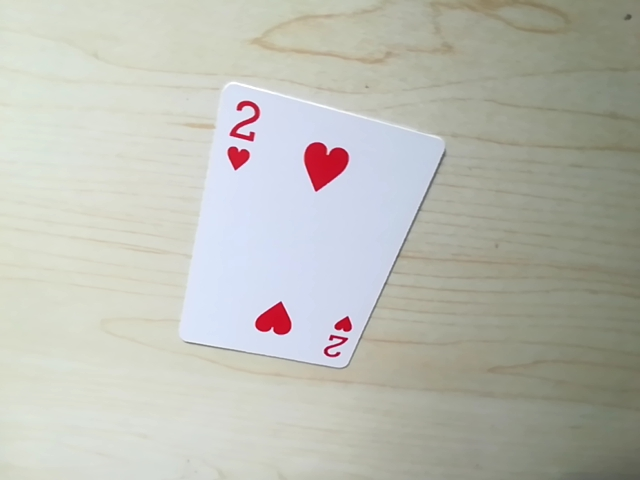hx 2: (219, 90, 263, 170), (318, 311, 359, 368)
